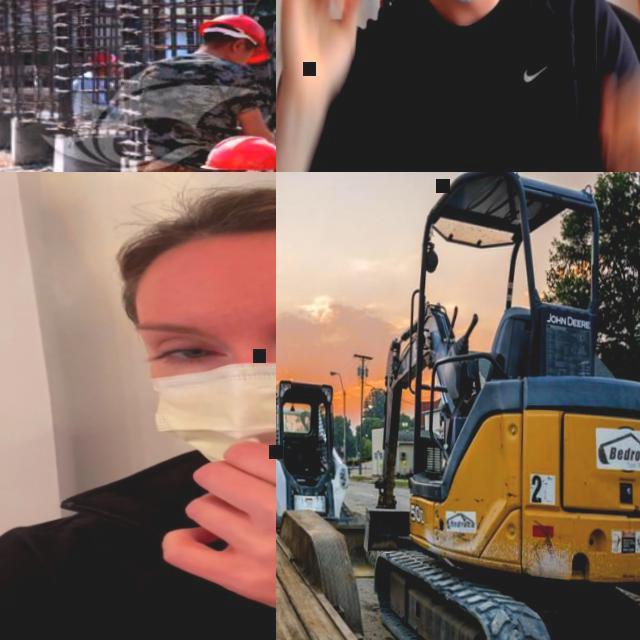helmet: (198, 14, 272, 70), (203, 131, 276, 172), (82, 48, 123, 66)
machinery: (357, 172, 640, 640), (276, 377, 385, 579)
mask: (141, 310, 276, 484)
no_helmet: (123, 184, 276, 282)
no_mask: (226, 49, 253, 68)
no_vest: (365, 0, 609, 172), (8, 486, 276, 640), (125, 52, 251, 172), (74, 77, 115, 121)
person: (0, 174, 276, 640), (276, 0, 640, 172), (130, 9, 276, 172), (74, 49, 126, 130)
